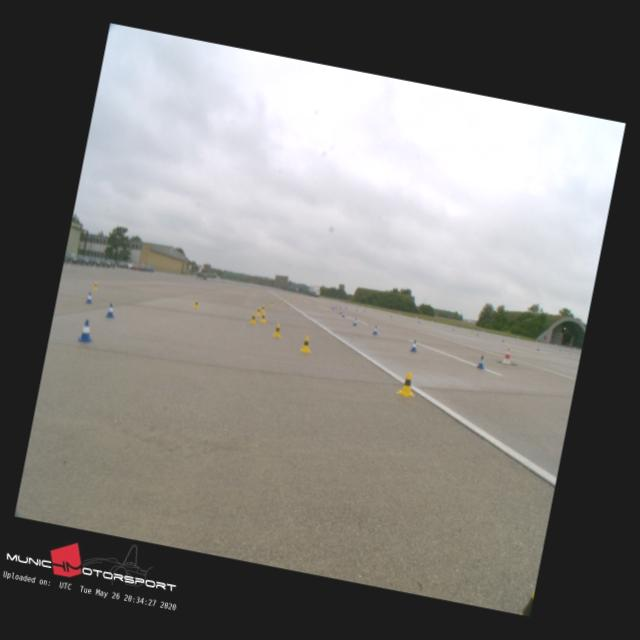blue_cone: (76, 319, 95, 343), (105, 303, 118, 318), (476, 354, 486, 370), (410, 340, 420, 352), (85, 292, 93, 304), (372, 326, 379, 336), (352, 318, 358, 326)
yellow_cone: (396, 370, 418, 398), (299, 336, 314, 354), (272, 322, 282, 338), (258, 310, 268, 324), (249, 312, 258, 324), (193, 299, 200, 309), (256, 307, 262, 316), (93, 282, 98, 290)
